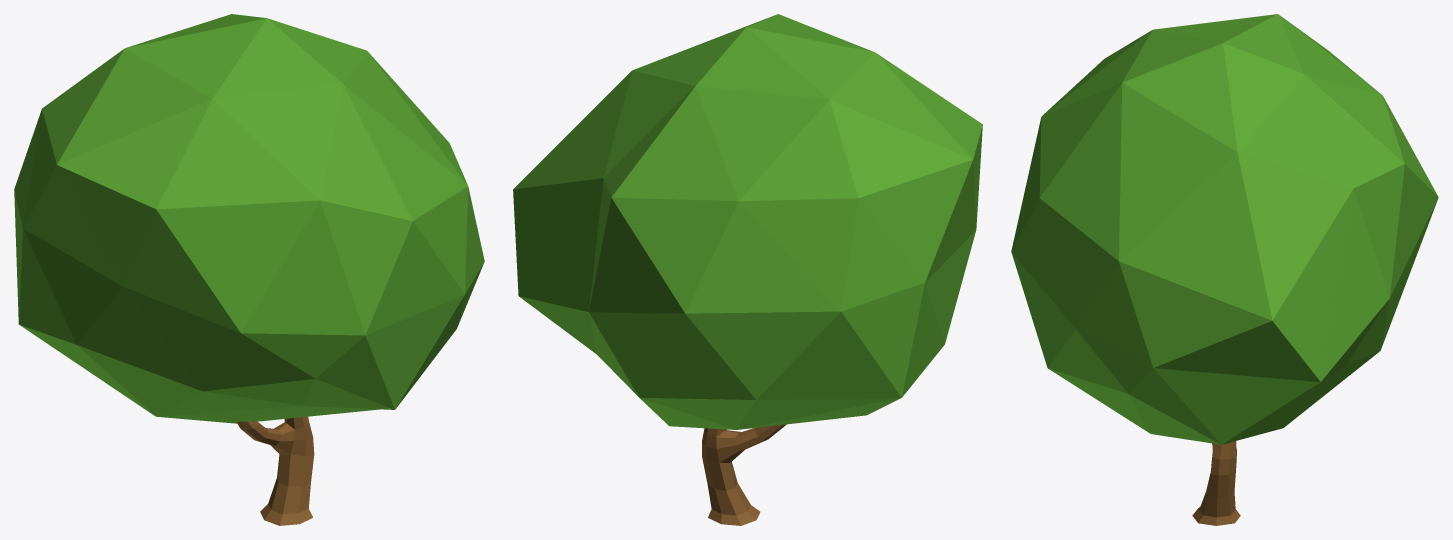
The model's file is Bush_1.fbx.
3 renders of one model, left to right at view 1: azimuth 30°, elevation 25°; view 2: azimuth 150°, elevation 25°; view 3: azimuth 270°, elevation 25°, orthographic. The views are drawn at different scales.
Parts seen in each view (by area): view 1: Bush_1; view 2: Bush_1; view 3: Bush_1.
Part boxes in pixels (bbox=[...]): Bush_1: bbox=[14, 14, 484, 525]; Bush_1: bbox=[513, 14, 982, 525]; Bush_1: bbox=[1011, 14, 1438, 525].
Bounding box in the file's own units: 193 × 214 × 178.
